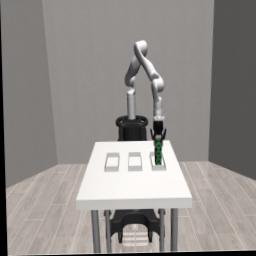cube1: (154, 137, 161, 151)
cube2: (153, 149, 161, 159)
cube3: (154, 158, 161, 166)
